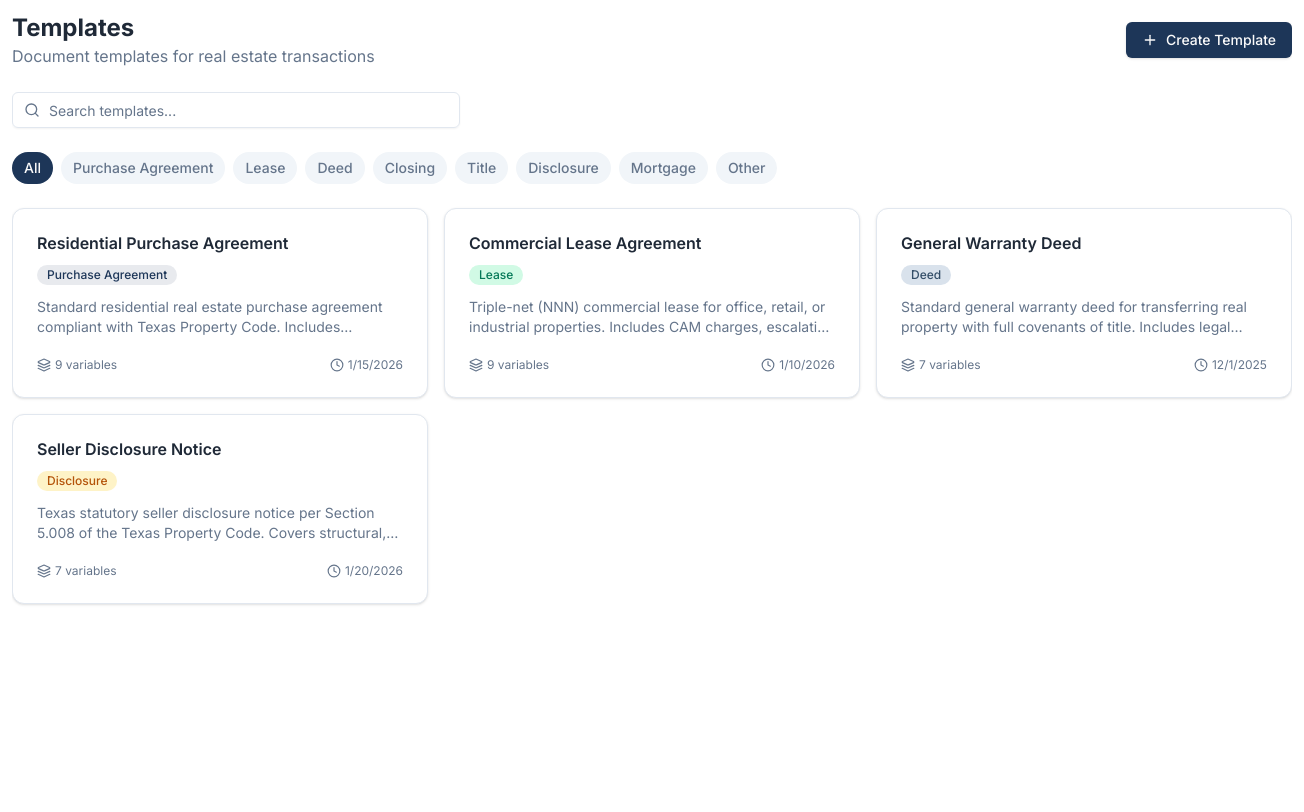
Test: TemplatesPage › should show empty state when no templates match filters
The width and height of the screenshot is (1304, 812).
Expected: the heading "Residential Purchase Agreement" is shown, [37,233,288,253]
Type "xyznonexistent" into the search field with placeholder "Search templates...".
click(236, 110); type("xyznonexistent")  # box [12,92,460,128]
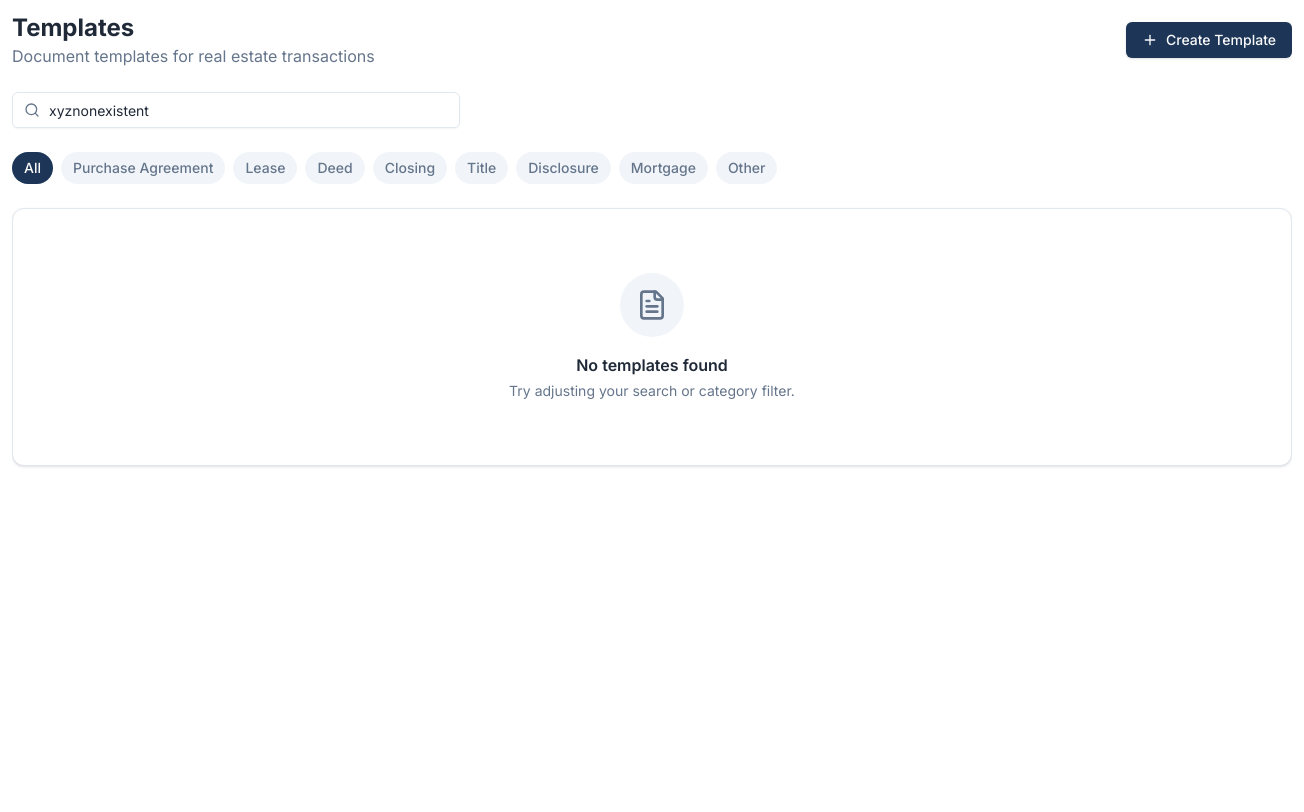
Result: the heading "No templates found" is shown at [576,353,728,377]
Result: the text "Try adjusting your search or category filter." is shown at [509,381,795,401]
